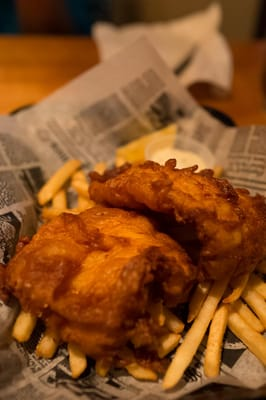soup: (4, 205, 202, 370)
